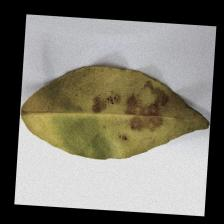black spot: (90, 75, 168, 136)
